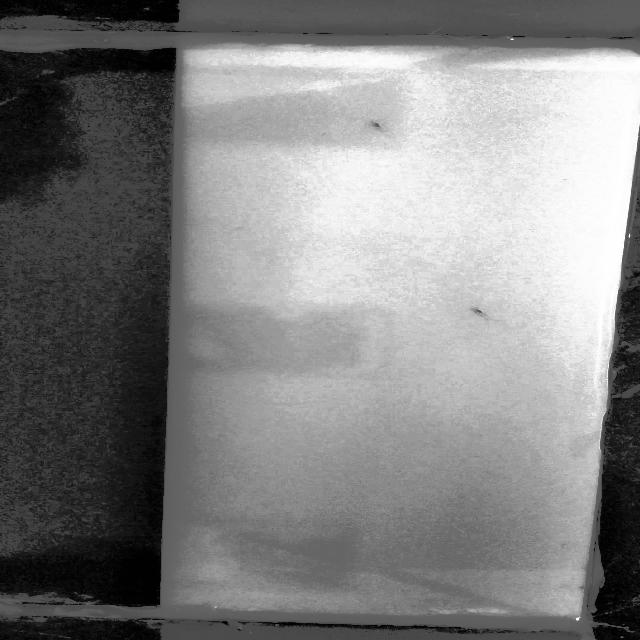shrimp: (458, 301, 497, 319), (363, 120, 388, 134)
